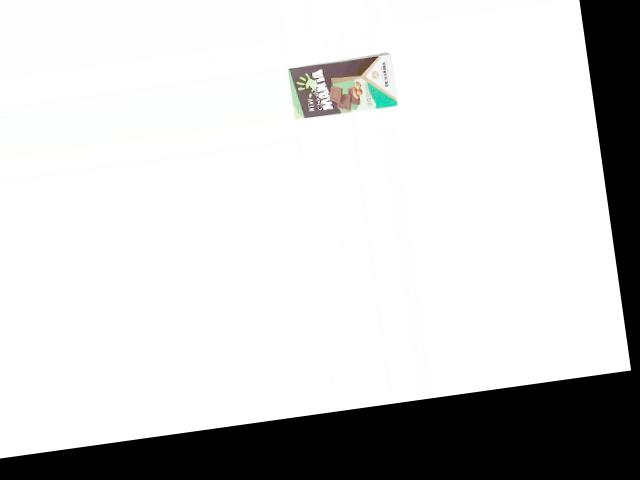chocolate: (285, 50, 400, 122)
